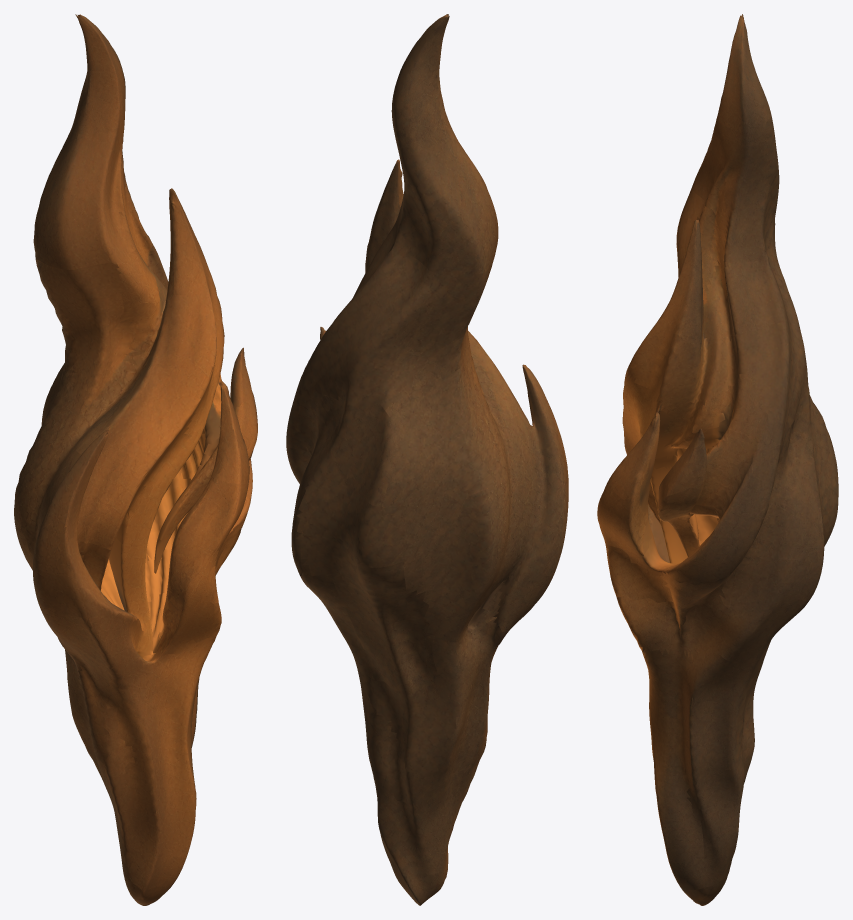
File: camp_flame.glb
3 views of the same model, side by side, from view 1: azimuth 30°, elevation 25°; view 2: azimuth 150°, elevation 25°; view 3: azimuth 270°, elevation 25° (orthographic). The views are drawn at different scales.
Visible parts, largest first — view 1: mesh_node; view 2: mesh_node; view 3: mesh_node.
Boxes of the visible parts, box(x1,y1,x2,y2) form: mesh_node: box(14, 14, 257, 905); mesh_node: box(286, 14, 568, 905); mesh_node: box(597, 14, 838, 905).
Size of the model in its own units: 0.5496 by 2 by 0.5038.
Materials: 1 (1 with a texture image).
